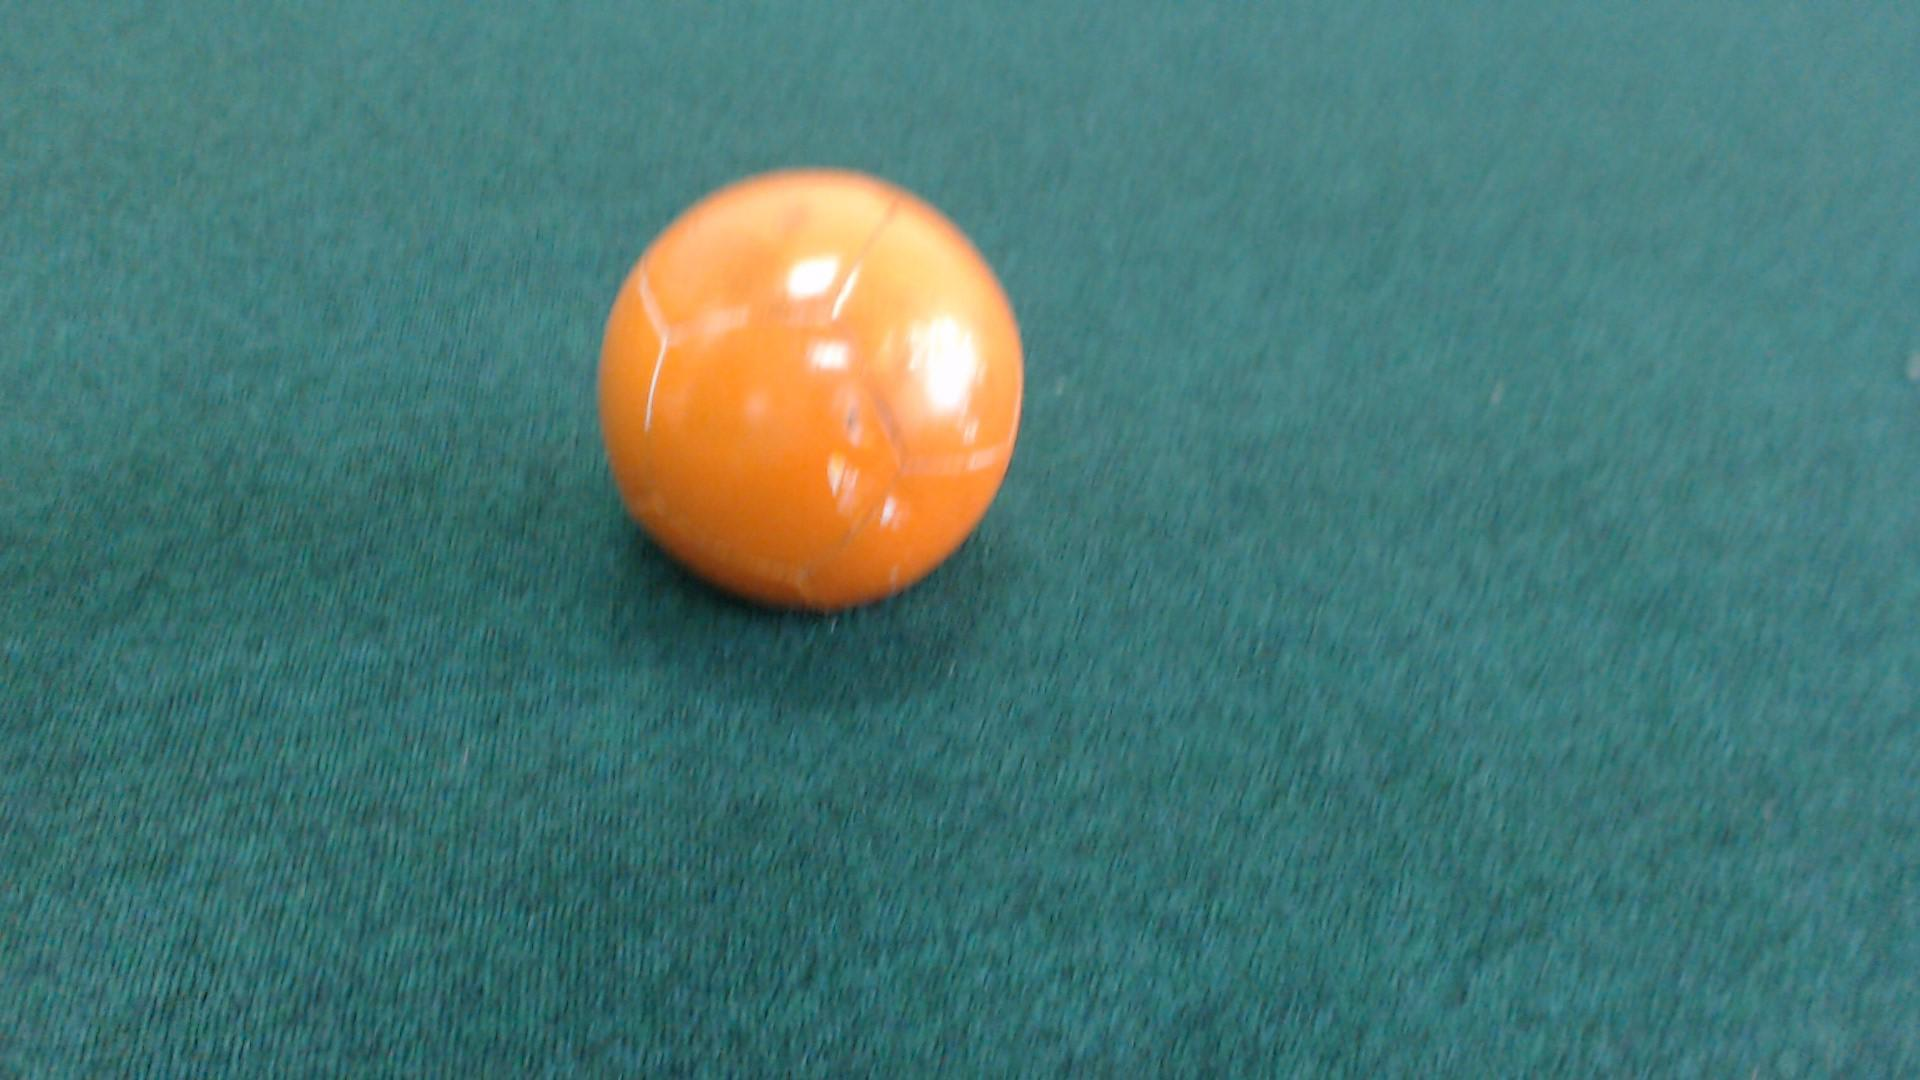bola: (592, 146, 1027, 620)
